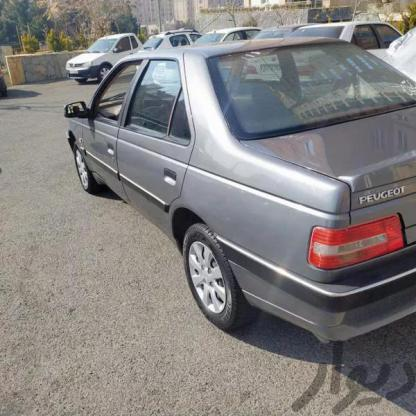Car: (66, 41, 416, 345), (63, 26, 142, 84), (279, 22, 408, 42), (186, 22, 262, 47), (142, 25, 184, 50)
